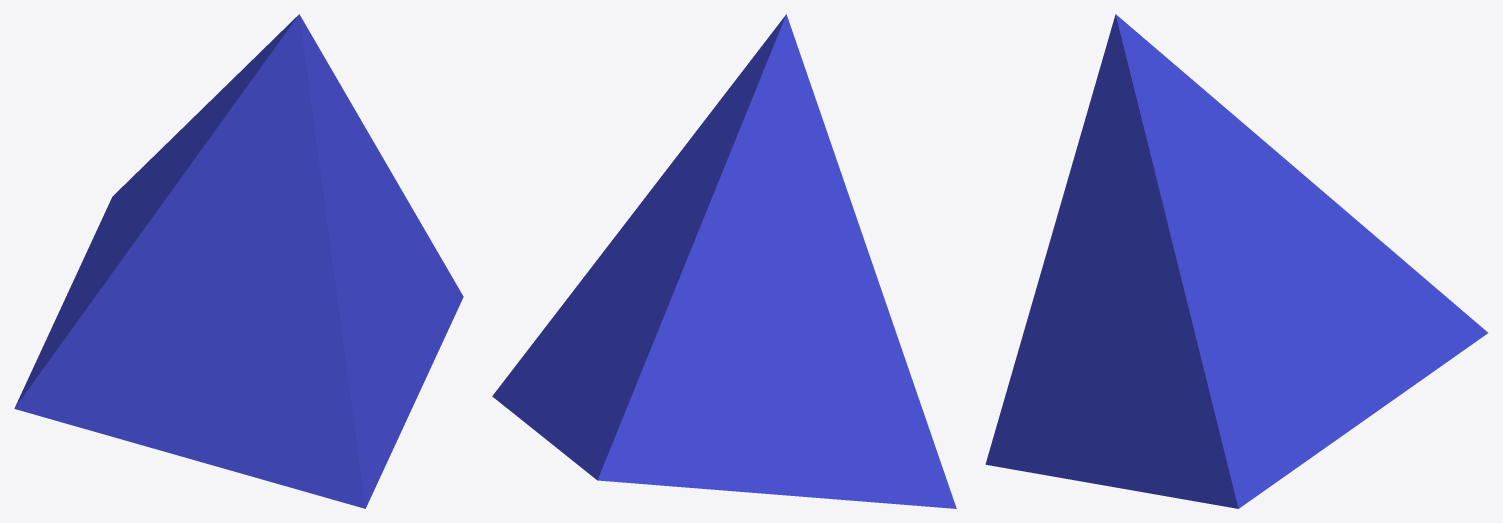
The picture shows the model from 3 angles, left to right: view 1: azimuth 30°, elevation 25°; view 2: azimuth 150°, elevation 25°; view 3: azimuth 270°, elevation 25°; orthographic projection. The views are drawn at different scales.
Visible parts, largest first — view 1: root; view 2: root; view 3: root.
Boxes of the visible parts, x1=… form: root: x1=14, y1=14, x2=463, y2=508; root: x1=492, y1=14, x2=956, y2=508; root: x1=985, y1=14, x2=1487, y2=508.
Bounding box in the file's own units: 0.2311 × 0.2193 × 0.2222.
